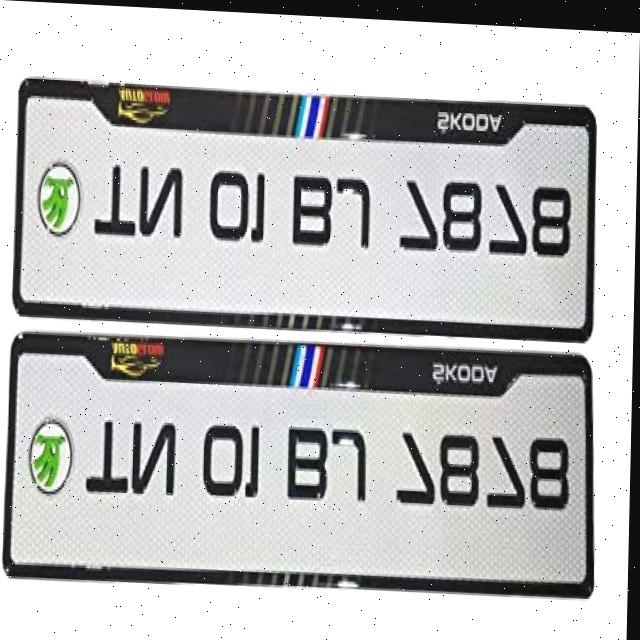plate: (6, 326, 596, 602), (11, 73, 598, 342)
